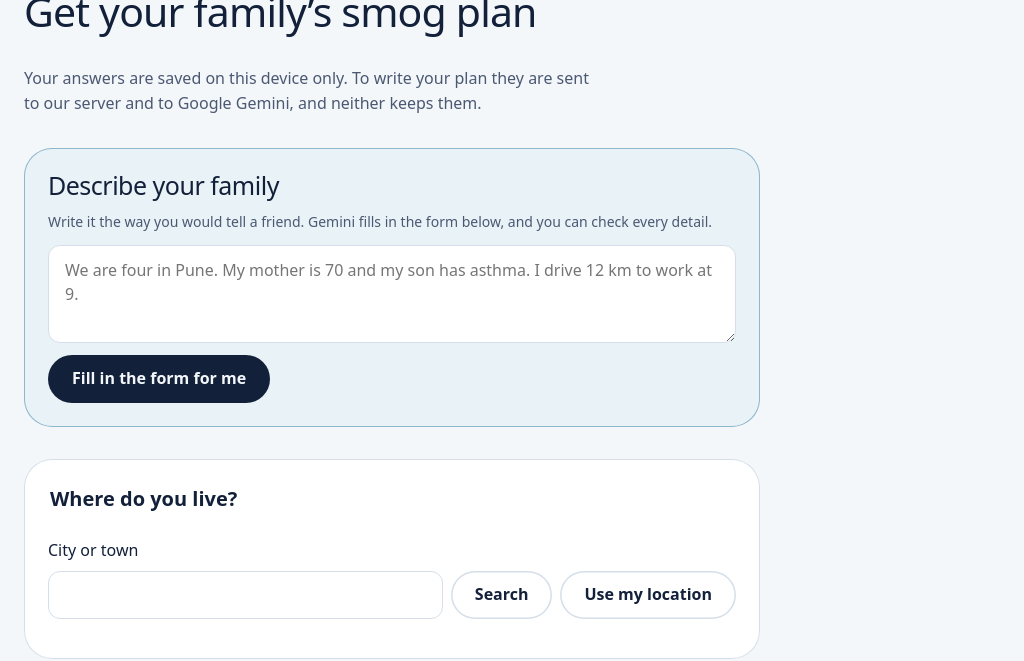
it: Dashboard with a saved family › saves a new family and shows its plan
Type "Delhi" into the field labelled "City or town" at (245, 595), box [48,571,443,619]
Then press Enter
(page scrolled)
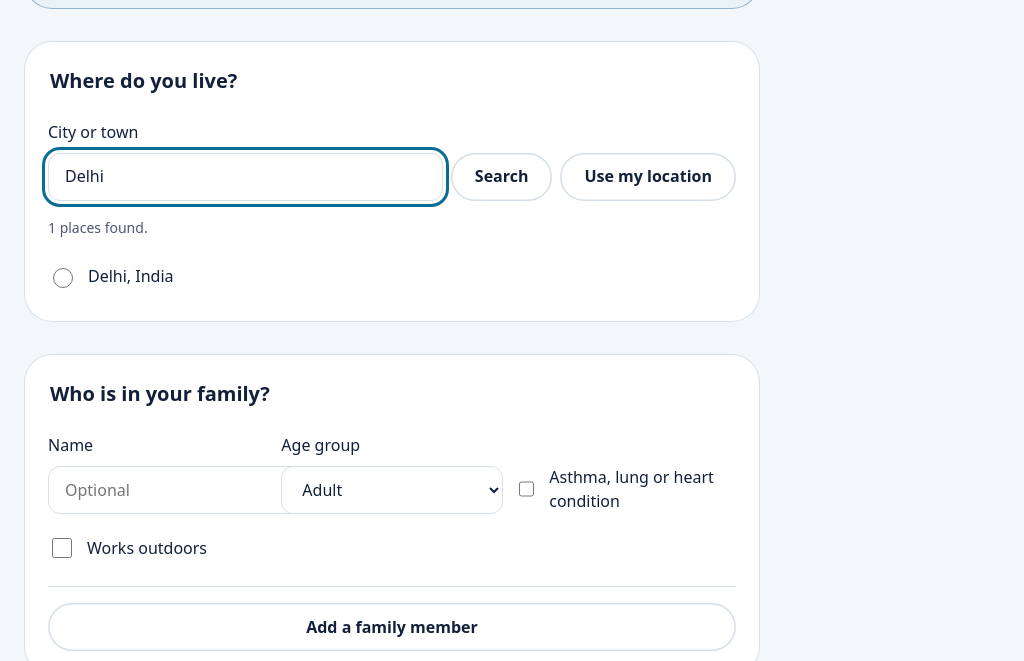
Click the radio button labelled "Delhi, India" at (63, 278), box [53,268,73,288]
(page scrolled)
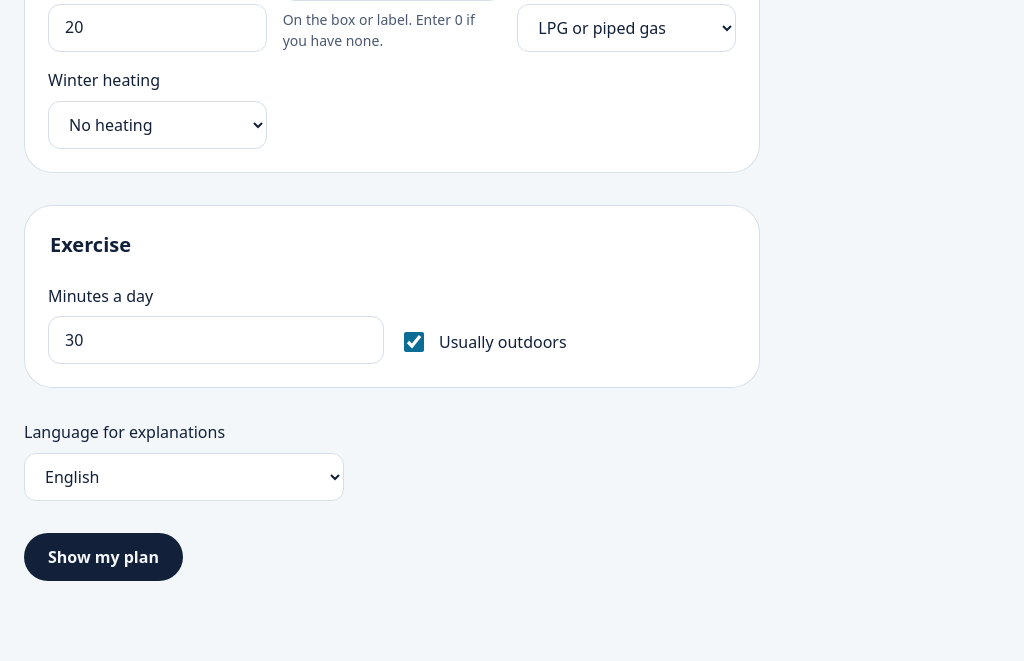
Click the button "Show my plan" at (103, 557), box [24,533,183,581]
(page scrolled)
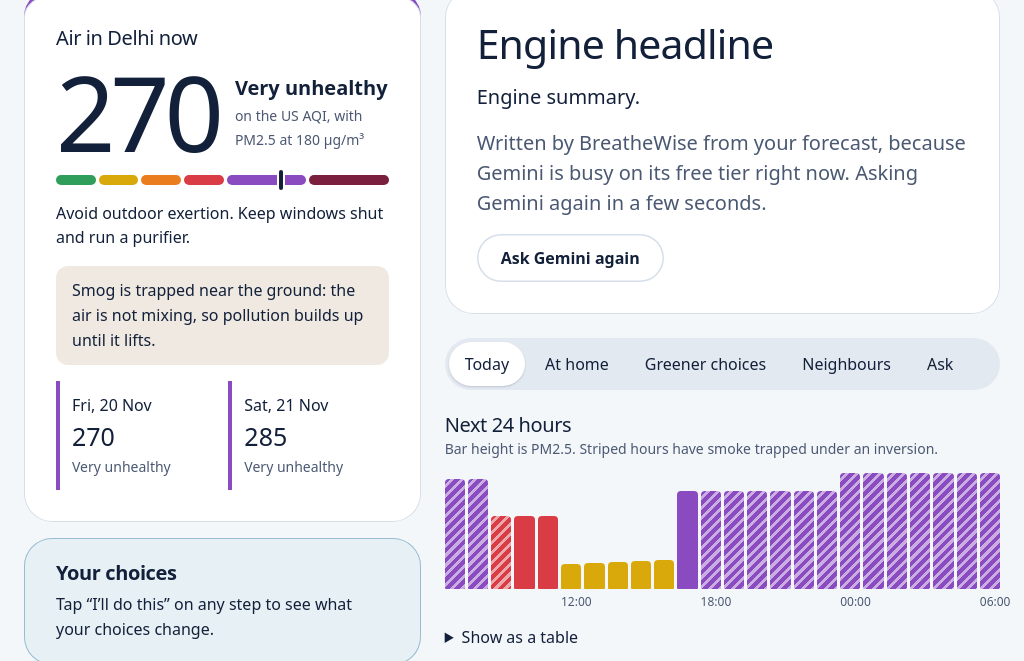
Now the heading "Air in Delhi now" is shown, box [56,24,197,51]
